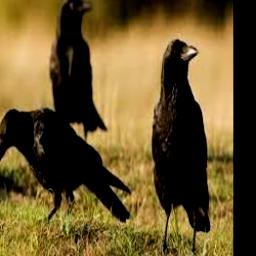Crow: (0, 107, 131, 224), (152, 38, 210, 254), (50, 0, 108, 144)
